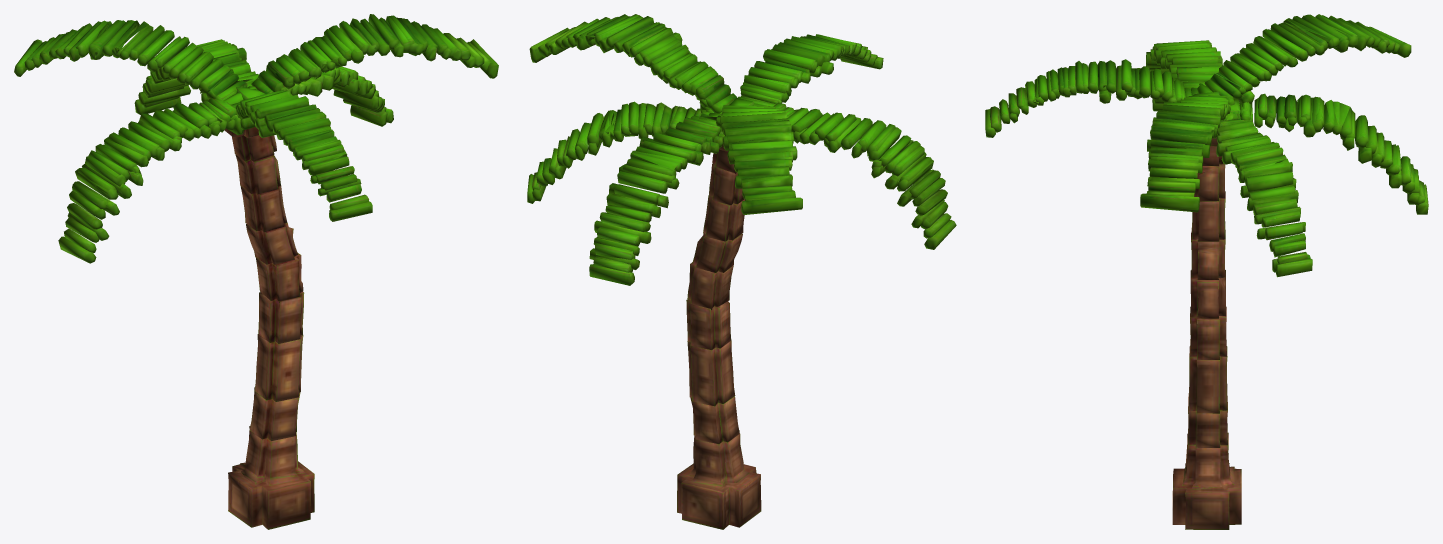
Rendered from palm.glb.
The picture shows the model from 3 angles, left to right: view 1: azimuth 30°, elevation 25°; view 2: azimuth 150°, elevation 25°; view 3: azimuth 270°, elevation 25°; orthographic projection. The views are drawn at different scales.
Size of the model in its own units: 0.9375 by 1 by 0.8965.
Materials: 1 (1 with a texture image).
